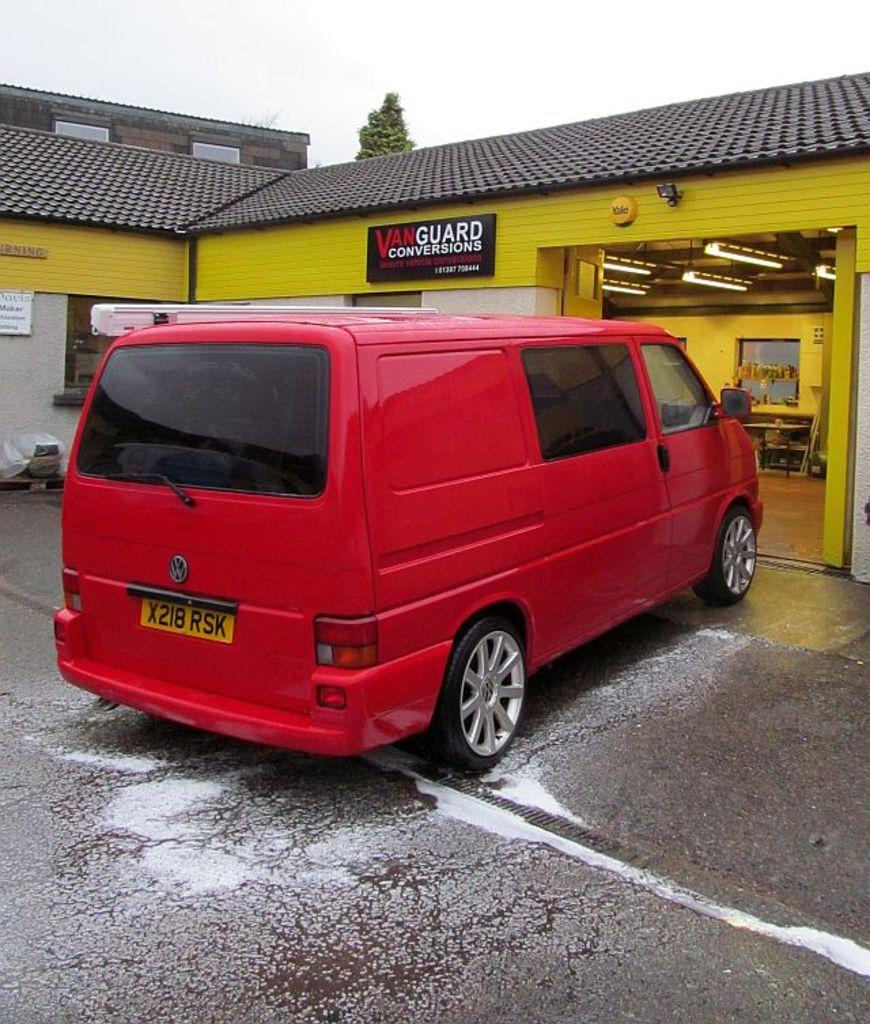vehicle: (51, 309, 766, 771)
